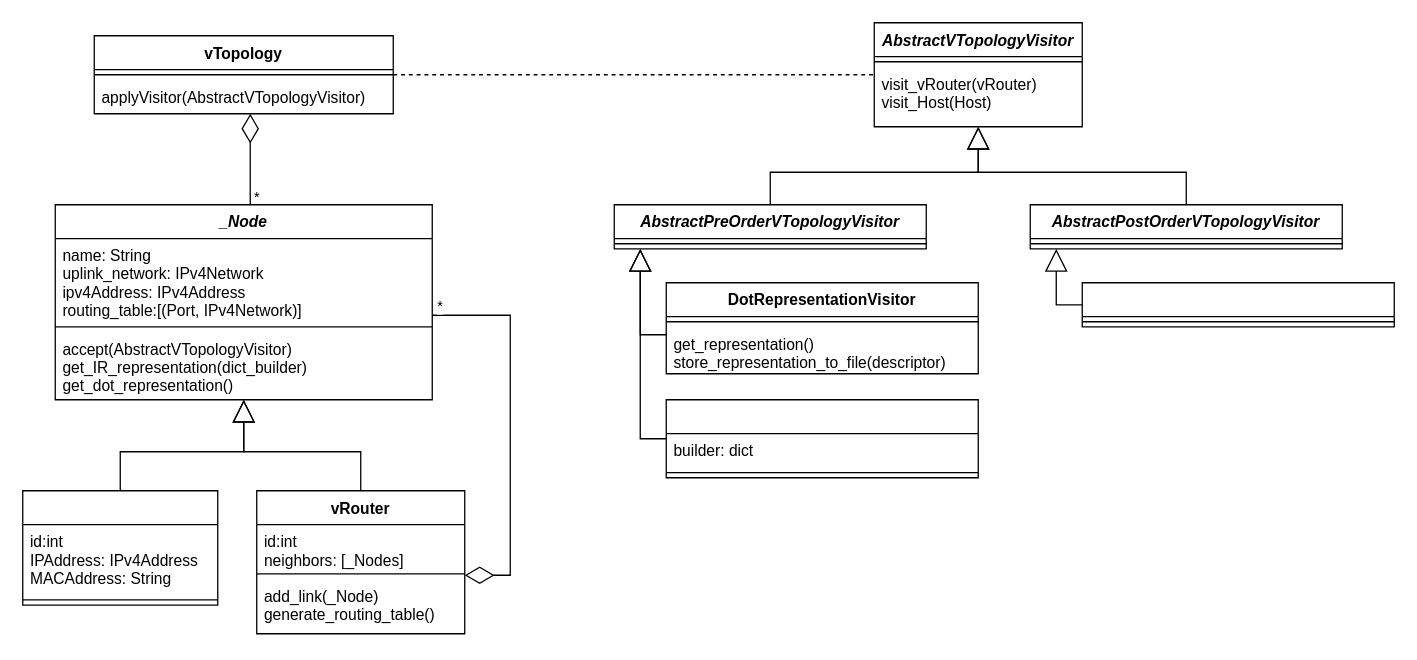
The diagram is 1417 pixels wide and 660 high, and some of its shapes have lost their labels. The box of each missing label's shape, as (x1, y1, x2, y2) in pixels:
Host: (21, 489, 218, 605)
IntermediateRepresentationVisitor: (665, 398, 978, 478)
UpdateRoutingTableVisitor: (1081, 281, 1394, 327)
